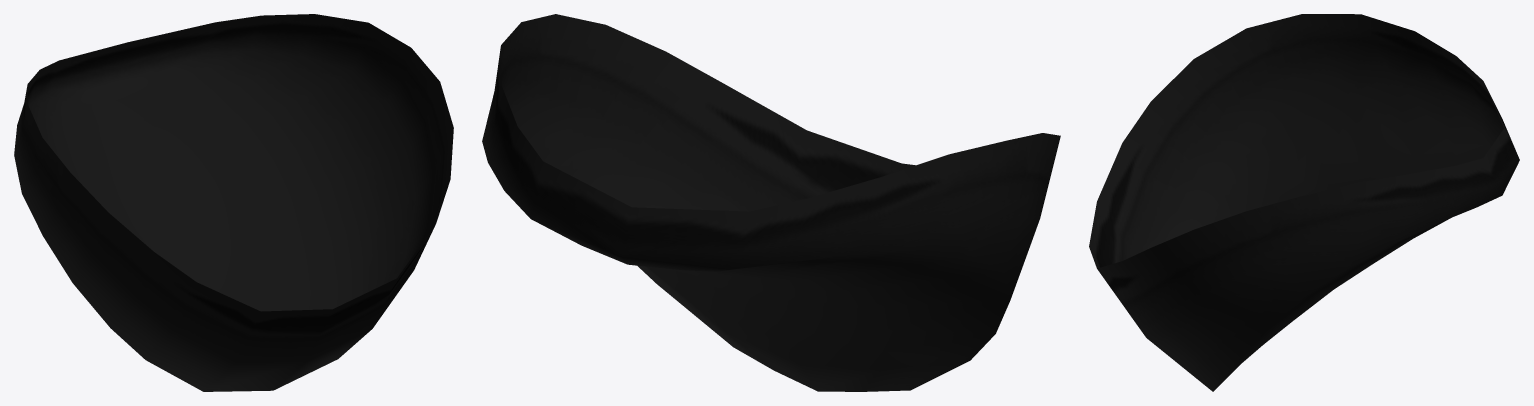
The model's file is YVR_d1_left_trigger.obj.
The picture shows the model from 3 angles, left to right: view 1: azimuth 30°, elevation 25°; view 2: azimuth 150°, elevation 25°; view 3: azimuth 270°, elevation 25°; orthographic projection. The views are drawn at different scales.
Parts seen in each view (by area): view 1: Object002; view 2: Object002; view 3: Object002.
Part boxes in pixels (box(x1,y1,x2,y2)): Object002: box(14, 14, 453, 391); Object002: box(482, 14, 1060, 391); Object002: box(1089, 14, 1519, 391).
Bounding box in the file's own units: 0.0272 × 0.0192 × 0.0271.
Materials: 1 (1 with a texture image).
